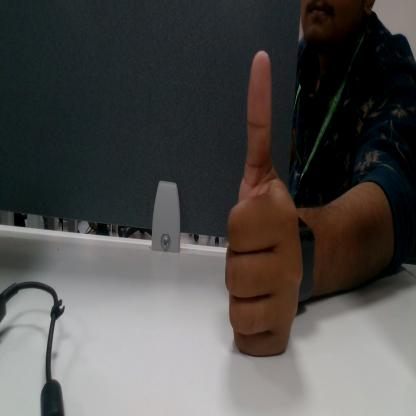Thumbs up: (222, 44, 305, 360)
